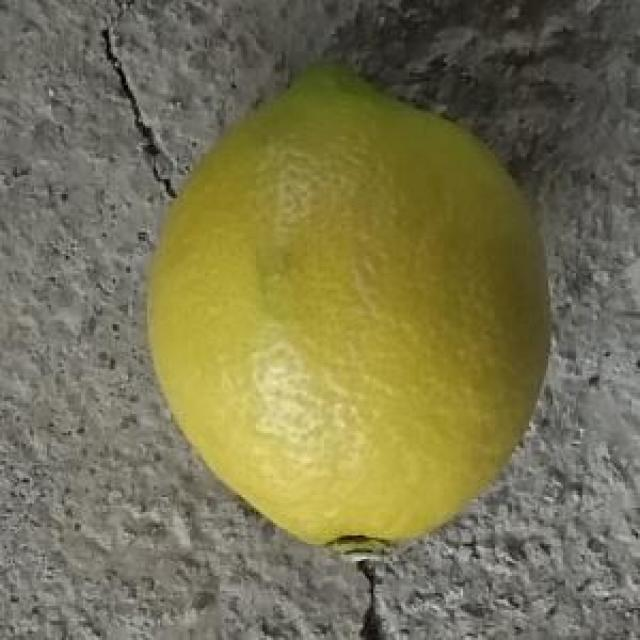lemon: (140, 62, 558, 563)
